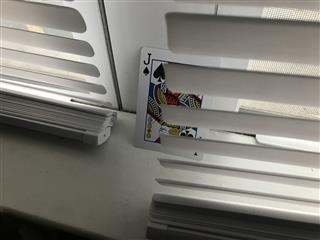JackOfSpades: (131, 46, 220, 160)
